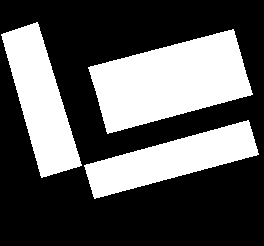parkingspot: (84, 120, 258, 198), (1, 22, 81, 177), (88, 29, 243, 102), (98, 62, 252, 133)
